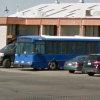Bus: (9, 29, 98, 68)
